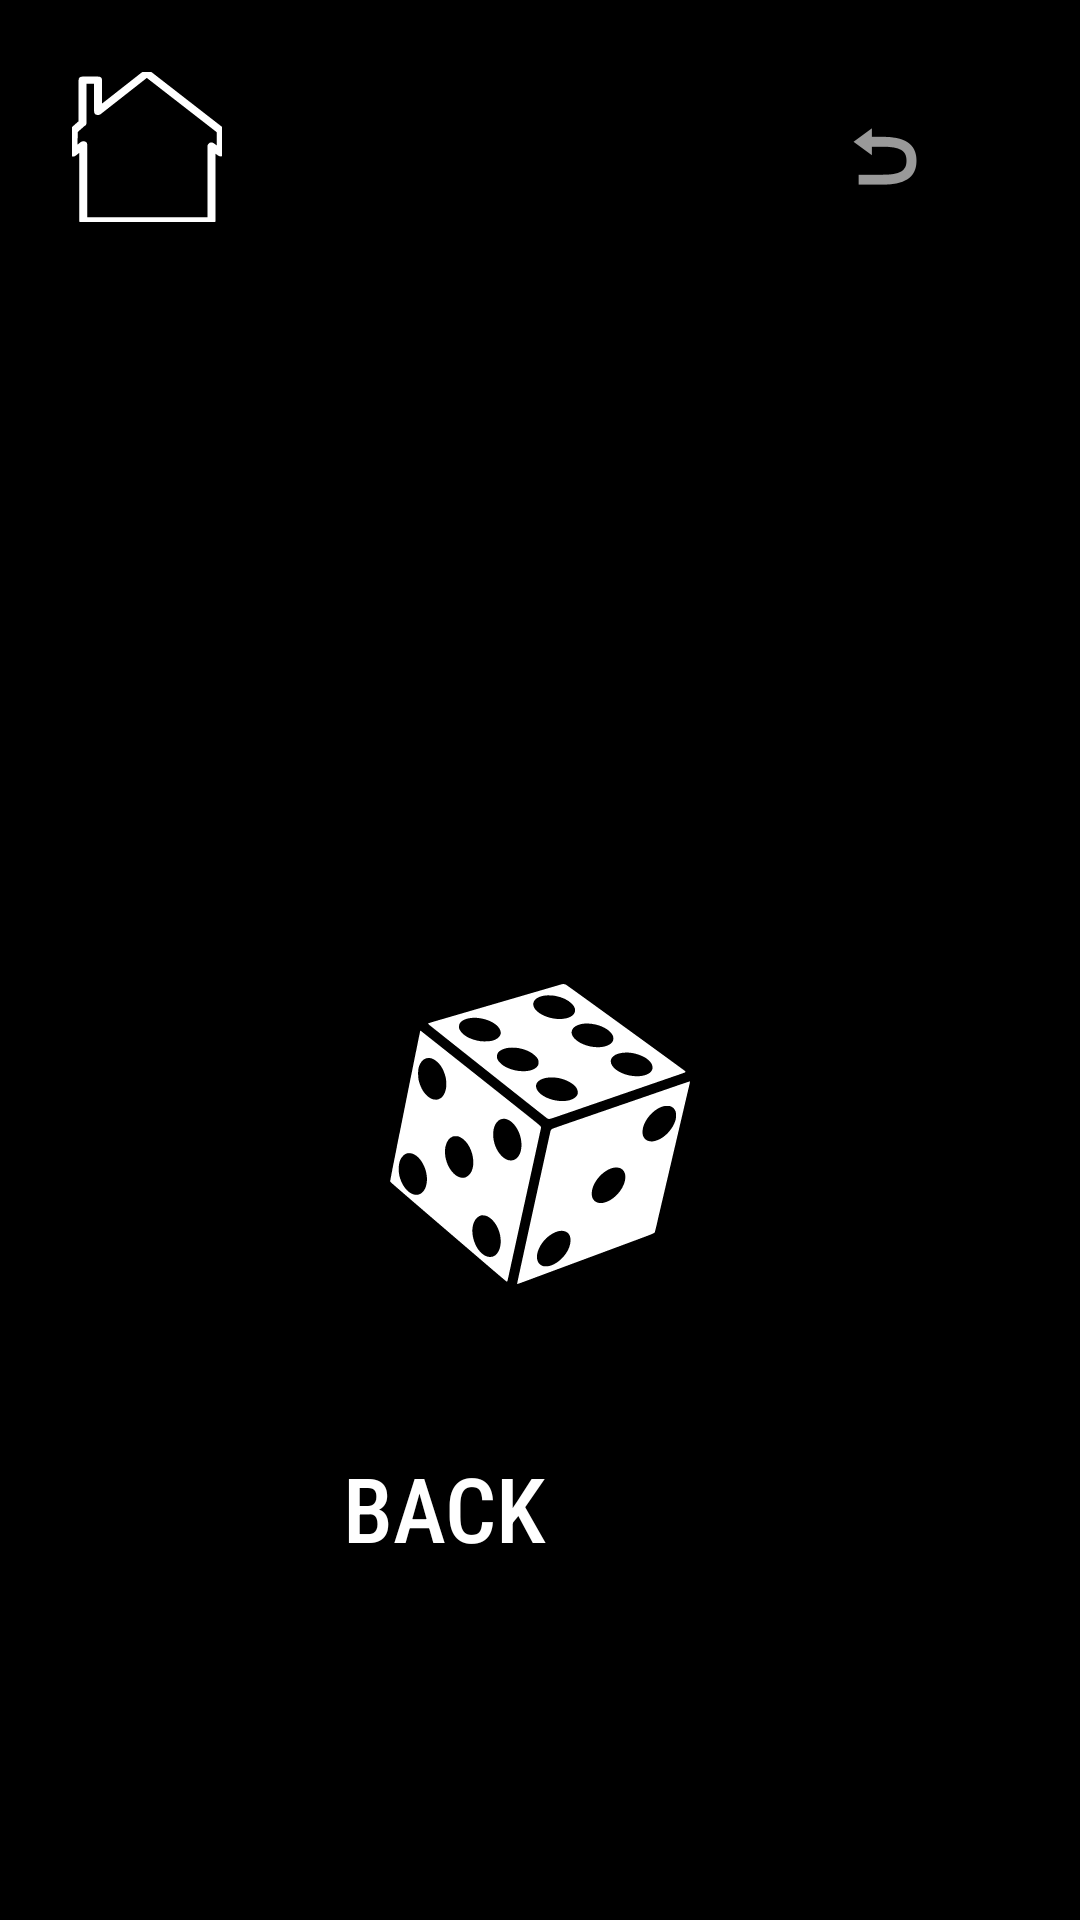

Where icons sit on this 1080*1920 app screen, as (x1, y1, x2, y2):
Dice roll button: (390, 984, 690, 1284)
home: (72, 72, 222, 222)
revert: (854, 128, 917, 185)
